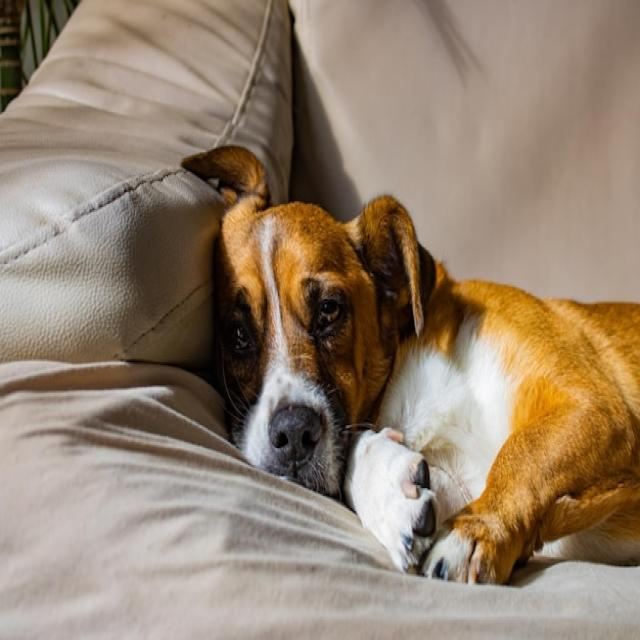Dog: (181, 148, 640, 583)
